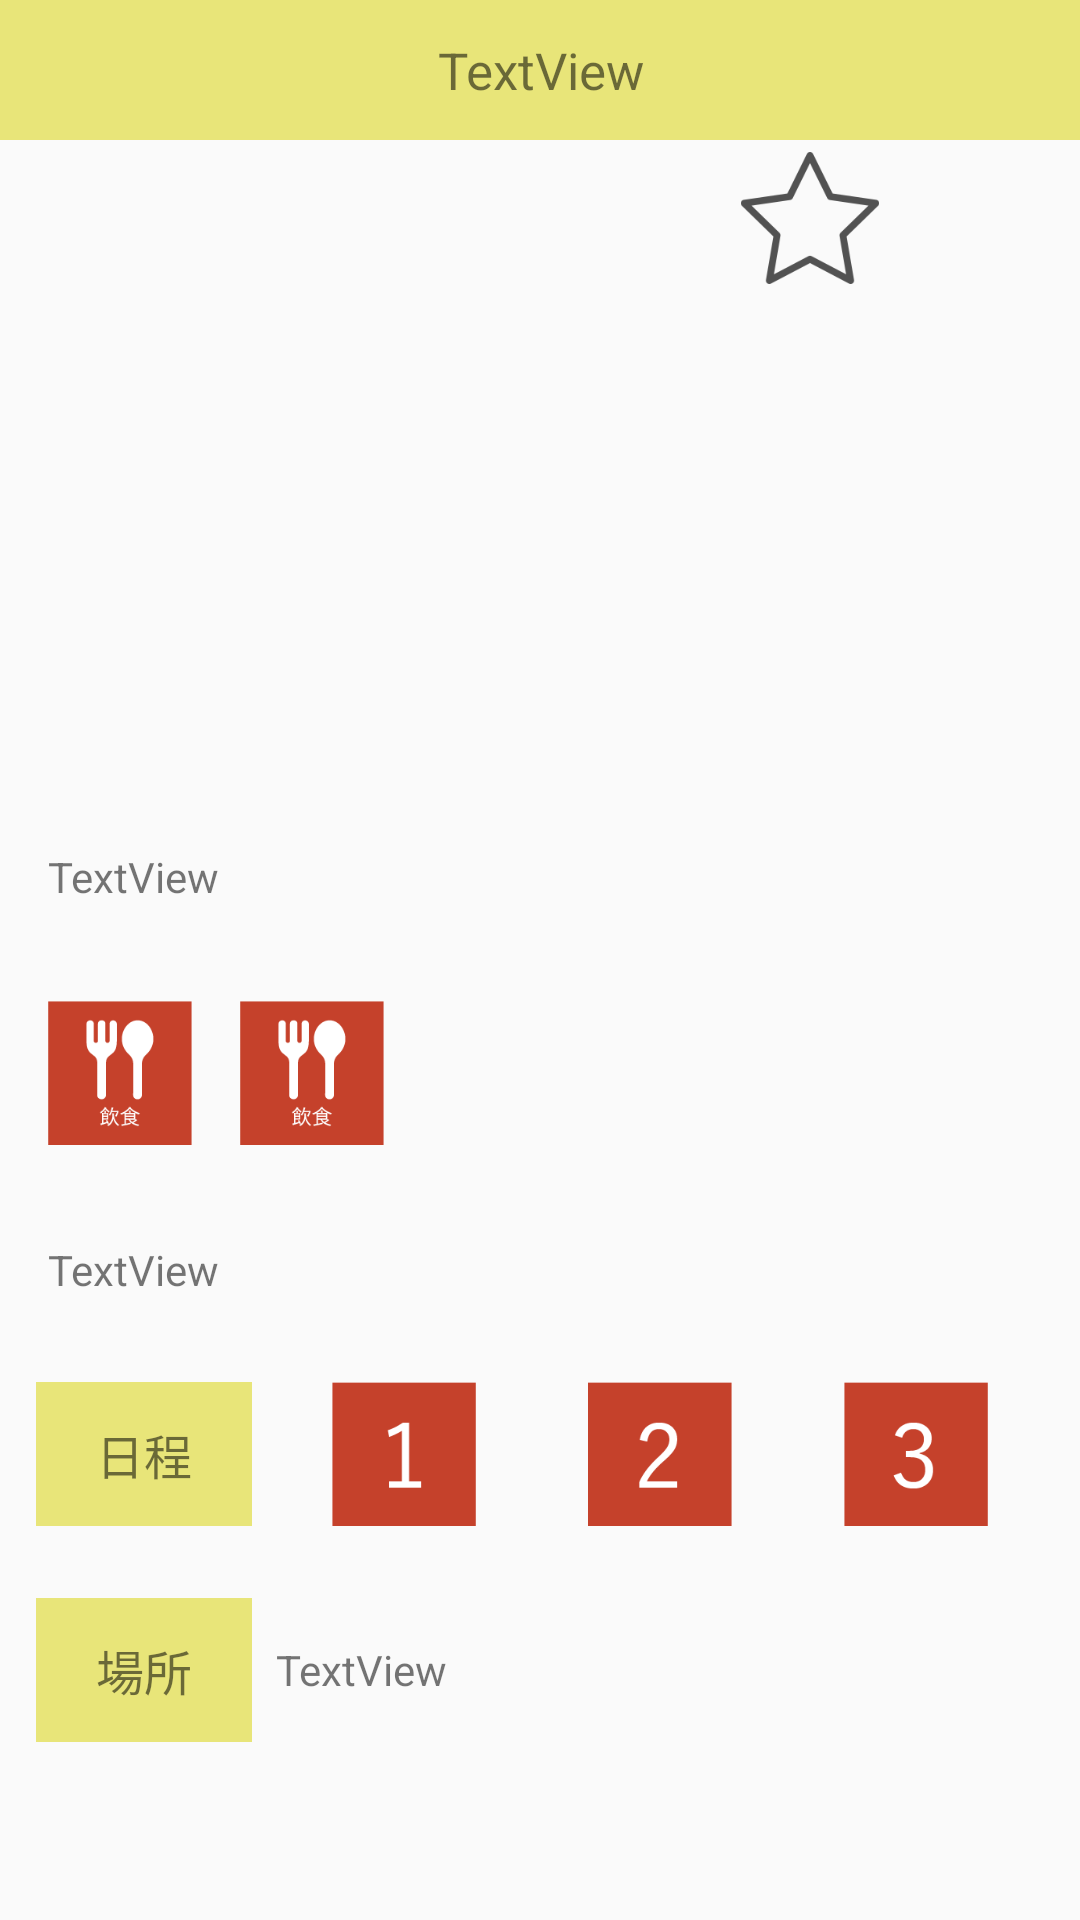

Icon bounding boxes for this 1080w x 1920h phone screenshot, format (x1, y1, x2, y2):
favo: (741, 152, 879, 284)
genre: (48, 1001, 192, 1145), (240, 1001, 384, 1145)
